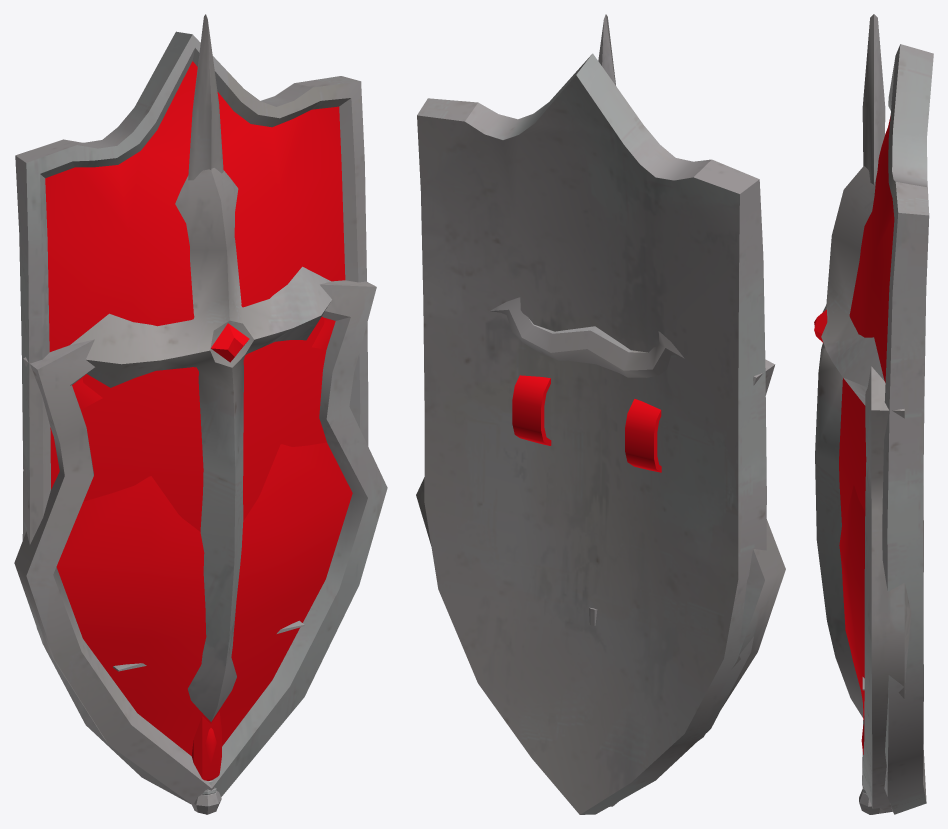
File: Epees_Boucliers_Nonfinal.fbx
3 views of the same model, side by side, from view 1: azimuth 30°, elevation 25°; view 2: azimuth 150°, elevation 25°; view 3: azimuth 270°, elevation 25° (orthographic).
Visible parts, largest first — view 1: Shield_2, Shield_1, Sword_2; view 2: Shield_2, Shield_1, Sword_2; view 3: Shield_2, Shield_1, Sword_2.
Part boxes in pixels (box(x1,y1,x2,y2)): Shield_2: box(15, 31, 368, 804); Shield_1: box(14, 280, 387, 805); Sword_2: box(188, 14, 223, 814); Shield_2: box(417, 53, 766, 814); Shield_1: box(416, 297, 785, 740); Sword_2: box(589, 14, 618, 806); Shield_2: box(814, 44, 933, 814); Shield_1: box(839, 366, 911, 813); Sword_2: box(859, 14, 885, 814).
Bounding box in the file's own units: 83.55 × 177 × 23.97.
